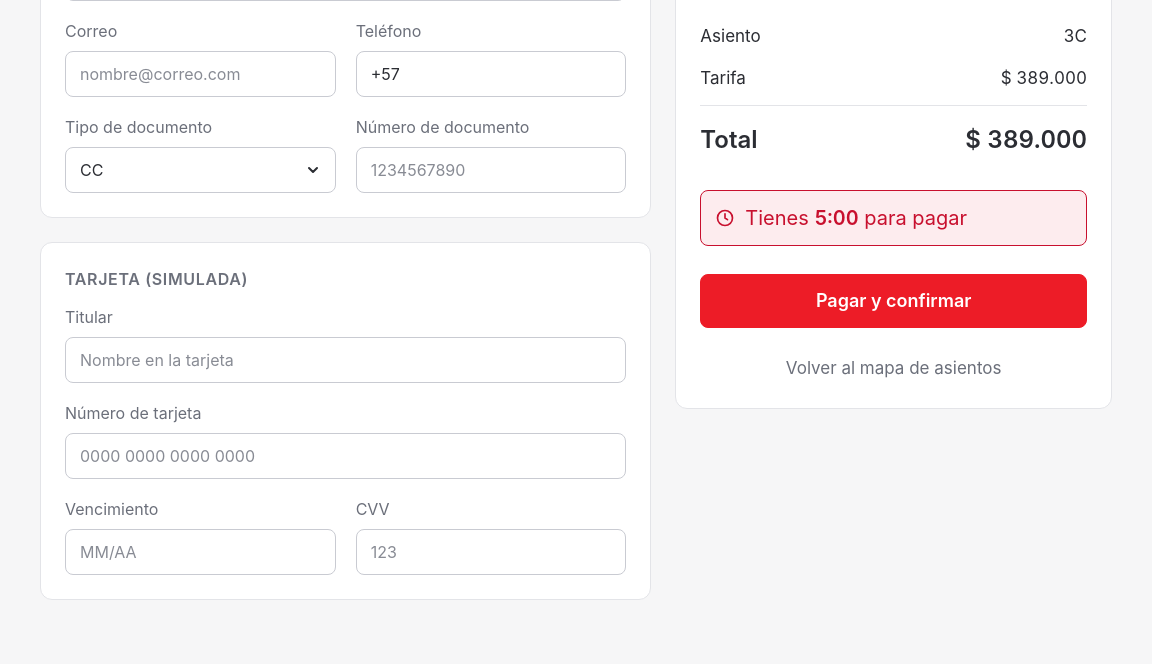
Test: CheckoutPage: the form › an expired card is rejected in place
(page scrolled)
Expected: the button "Pagar y confirmar" is shown, x1=700 y1=274 x2=1087 y2=328
Type "0126" into the field with id "expiry" at (200, 552), box x1=65 y1=529 x2=336 y2=575
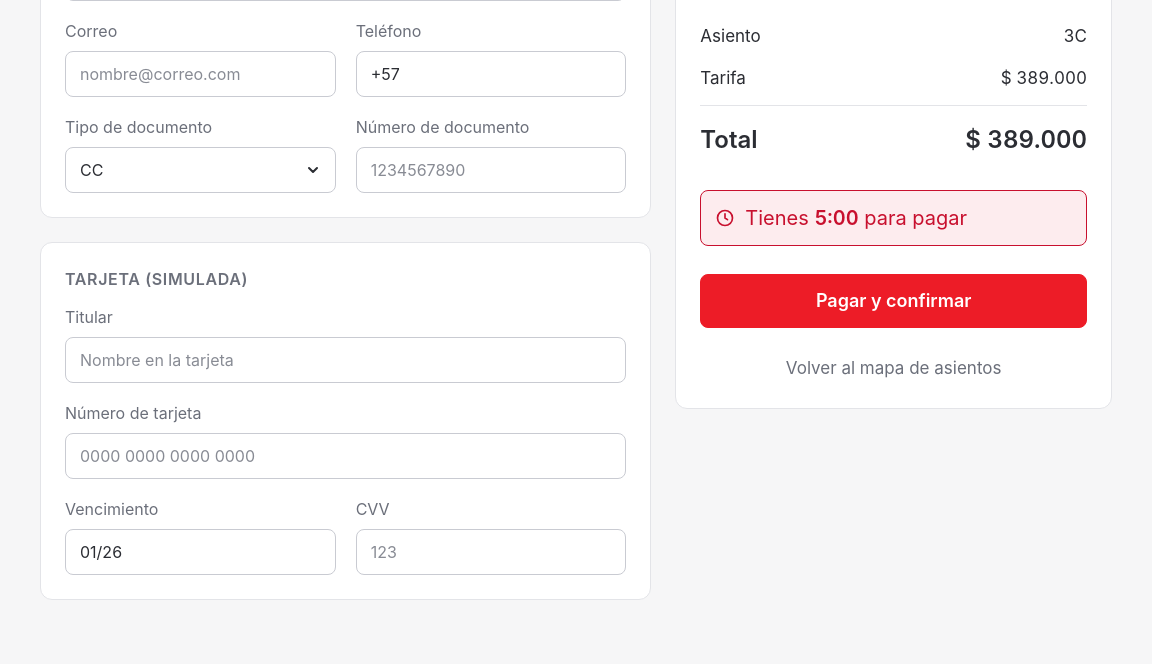
Leave the field with id "expiry", box x1=65 y1=529 x2=336 y2=575
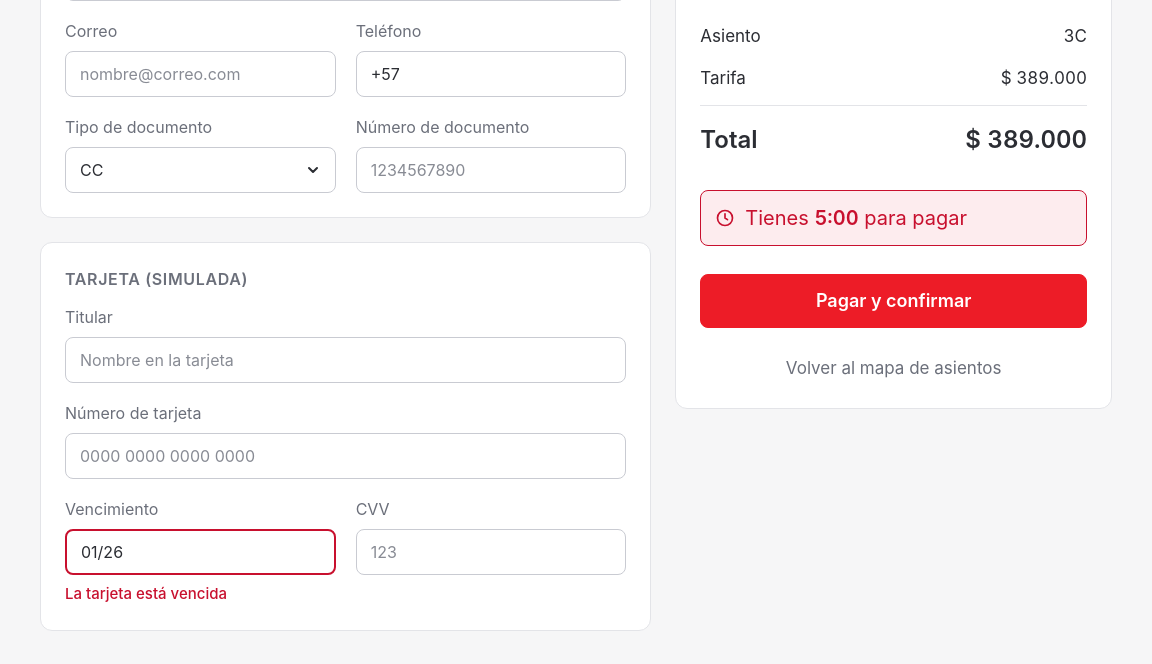
Result: the text "La tarjeta está vencida" is shown at x1=65 y1=584 x2=227 y2=603
